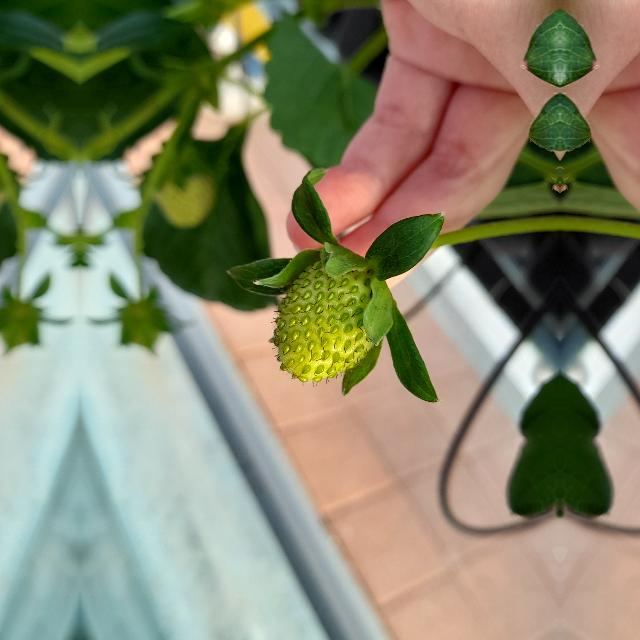Health_25: (272, 253, 378, 385)
